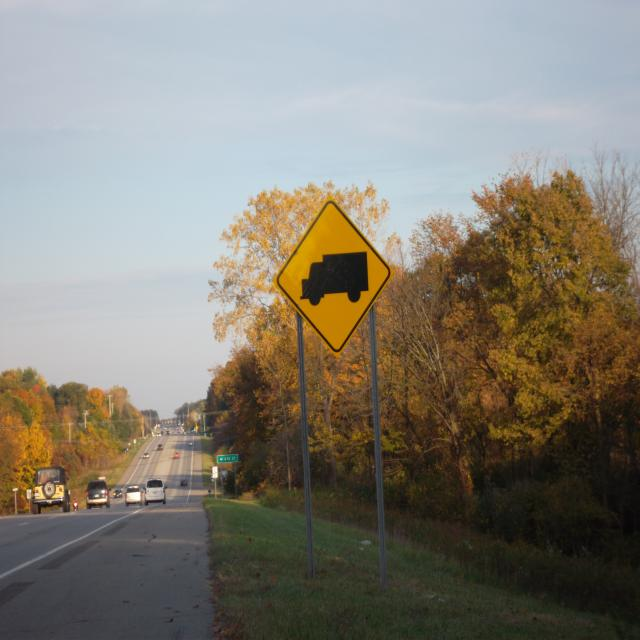warning: (274, 199, 392, 352)
